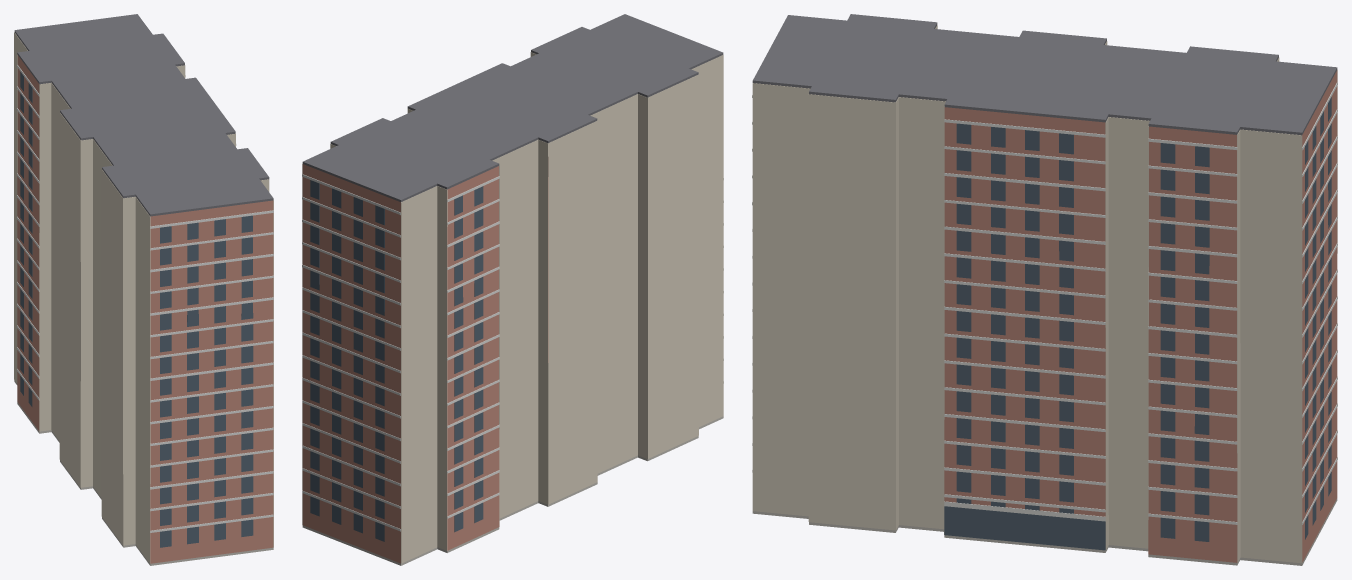
Rendered from riverview_tier2.glb.
3 views of the same model, side by side, from view 1: azimuth 30°, elevation 25°; view 2: azimuth 150°, elevation 25°; view 3: azimuth 270°, elevation 25° (orthographic). The views are drawn at different scales.
Parts seen in each view (by area): view 1: riverview_walls, riverview_roof, tanpanel_21, tanpanel_17, tanpanel_23, tanpanel_22, tanpanel_14, tanpanel_18, tanpanel_19, tanpanel_15, tanpanel_11, riverview_plinth (+16 smaller); view 2: riverview_walls, riverview_roof, tanpanel_21, tanpanel_17, tanpanel_19, tanpanel_15, tanpanel_11, tanpanel_23, tanpanel_12, tanpanel_16, tanpanel_20, riverview_plinth; view 3: riverview_walls, riverview_roof, tanpanel_27, tanpanel_9, tanpanel_25, tanpanel_1, tanpanel_5, entryglass, riverview_plinth, tanpanel_4, tanpanel_8, tanpanel_0 (+1 smaller).
Part boxes in pixels (x1,y1,x2,y2): riverview_walls: [17, 55, 273, 563]; riverview_roof: [14, 14, 273, 216]; tanpanel_21: [101, 169, 123, 545]; tanpanel_17: [59, 112, 80, 487]; tanpanel_23: [135, 197, 150, 563]; tanpanel_22: [123, 196, 135, 545]; tanpanel_14: [39, 83, 51, 431]; tanpanel_18: [80, 139, 92, 487]; tanpanel_19: [93, 139, 112, 497]; tanpanel_15: [51, 83, 70, 440]; tanpanel_11: [14, 32, 27, 383]; riverview_plinth: [14, 380, 273, 565]; riverview_walls: [302, 157, 548, 563]; riverview_roof: [302, 14, 723, 201]; tanpanel_21: [647, 74, 698, 458]; tanpanel_17: [548, 120, 597, 504]; tanpanel_19: [590, 94, 637, 473]; tanpanel_15: [492, 140, 538, 518]; tanpanel_11: [401, 186, 437, 563]; tanpanel_23: [691, 55, 723, 427]; tanpanel_12: [437, 186, 447, 550]; tanpanel_16: [538, 139, 548, 504]; tanpanel_20: [638, 94, 647, 458]; riverview_plinth: [302, 416, 723, 565]; riverview_walls: [944, 70, 1337, 562]; riverview_roof: [752, 14, 1337, 135]; tanpanel_27: [809, 94, 895, 530]; tanpanel_9: [1240, 129, 1302, 563]; tanpanel_25: [752, 83, 810, 516]; tanpanel_1: [899, 97, 945, 529]; tanpanel_5: [1108, 117, 1149, 548]; entryglass: [944, 506, 1105, 550]; riverview_plinth: [752, 498, 1337, 565]; tanpanel_4: [1105, 117, 1108, 549]; tanpanel_8: [1237, 130, 1240, 562]; tanpanel_0: [895, 97, 898, 529].
Size of the model in its own units: 28.12 by 47.74 by 58.5.
